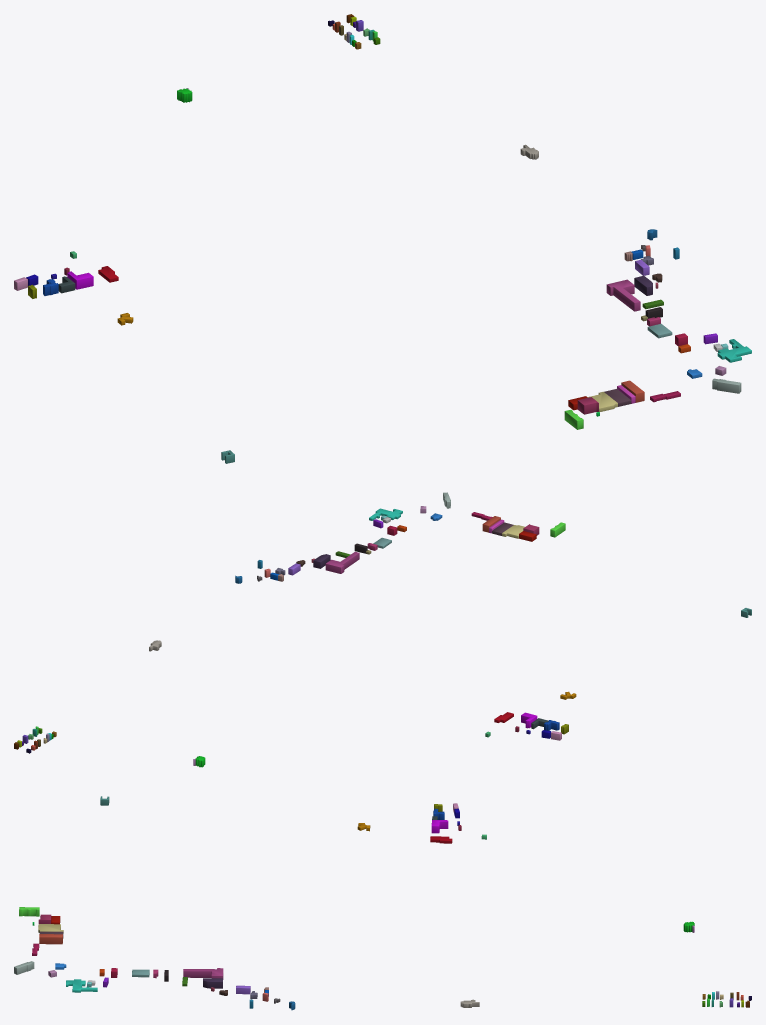
File: Fort Springs.fbx
The picture shows the model from 3 angles, top to bottom: view 1: azimuth 30°, elevation 25°; view 2: azimuth 150°, elevation 25°; view 3: azimuth 270°, elevation 25°; orthographic projection. The views are drawn at different scales.
Visible parts, largest first — view 1: file1; view 2: file1; view 3: file1.
Part boxes in pixels (x1,y1,x2,y2): file1: (14,14,751,463); file1: (14,492,751,767); file1: (14,796,751,1010).
Size of the model in its own units: 1802 by 29.9 by 2701.
